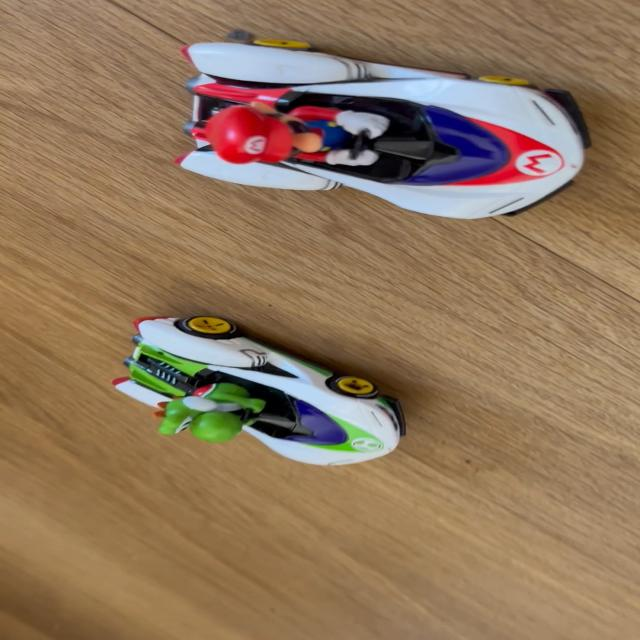mario: (157, 21, 602, 227)
yoshi: (122, 317, 418, 473)
